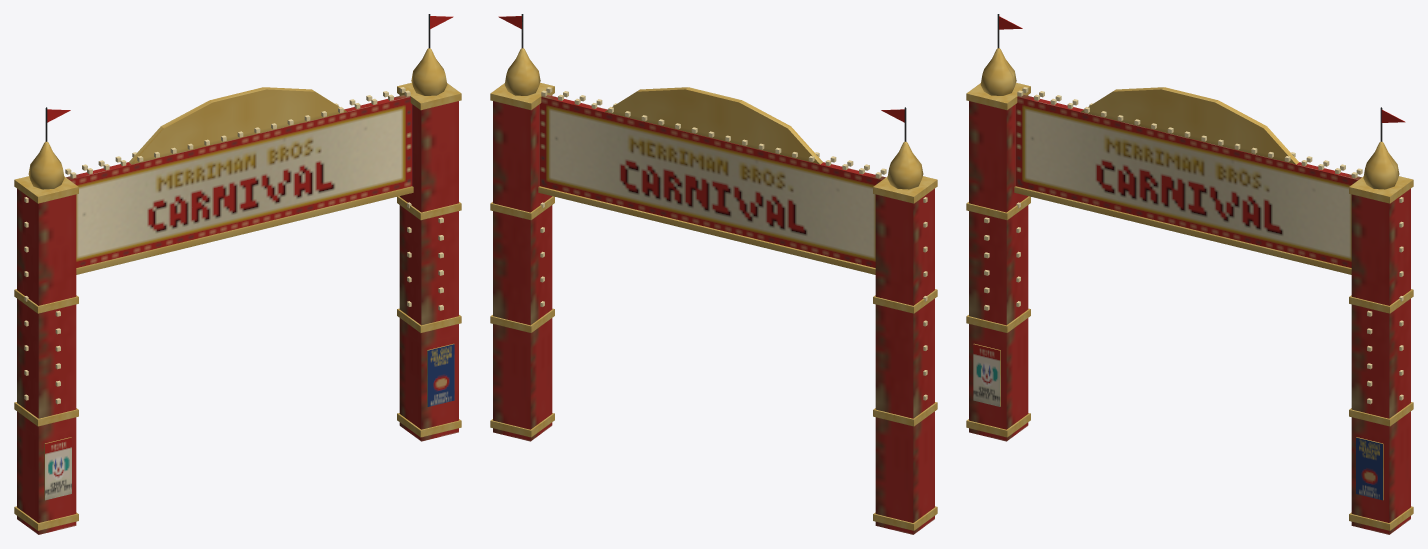
The model's file is carnival_arch.obj.
3 renders of one model, left to right at view 1: azimuth 30°, elevation 25°; view 2: azimuth 150°, elevation 25°; view 3: azimuth 330°, elevation 25°, orthographic.
Parts seen in each view (by area): view 1: carnival_arch_board, carnival_arch, carnival_arch_tower_r, carnival_arch_bulbs_top; view 2: carnival_arch_board, carnival_arch, carnival_arch_tower_r, carnival_arch_bulbs_top; view 3: carnival_arch_board, carnival_arch_tower_r, carnival_arch, carnival_arch_bulbs_top.
Boxes of the visible parts, x1=… form: carnival_arch_board: x1=66, y1=87, x2=413, y2=274; carnival_arch: x1=14, y1=107, x2=78, y2=534; carnival_arch_tower_r: x1=397, y1=14, x2=461, y2=441; carnival_arch_bulbs_top: x1=65, y1=87, x2=410, y2=178; carnival_arch_board: x1=538, y1=87, x2=885, y2=274; carnival_arch: x1=873, y1=107, x2=937, y2=534; carnival_arch_tower_r: x1=490, y1=14, x2=554, y2=441; carnival_arch_bulbs_top: x1=541, y1=87, x2=886, y2=178; carnival_arch_board: x1=1014, y1=87, x2=1361, y2=274; carnival_arch_tower_r: x1=1349, y1=107, x2=1413, y2=534; carnival_arch: x1=966, y1=14, x2=1030, y2=441; carnival_arch_bulbs_top: x1=1017, y1=87, x2=1362, y2=178.
Size of the model in its own units: 7.94 by 7.35 by 0.785.
1 material, 1 textured.
